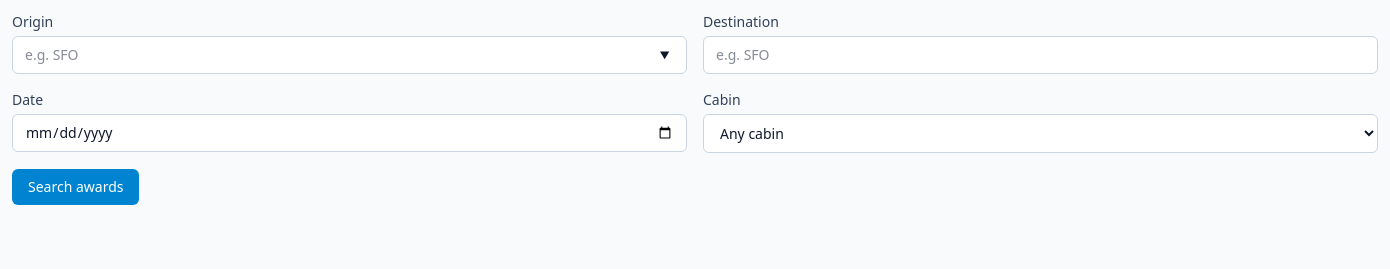
SearchForm › blocks submit and shows errors when empty
What coordinates should you click on to do the following:
click the button "Search awards"
I would click on:
 (76, 187)
Its box is [12, 169, 140, 205].
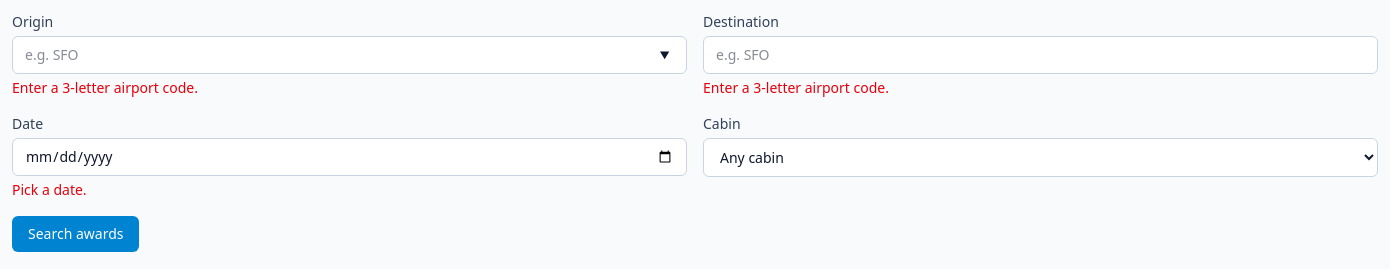
expect the text "Enter a 3-letter airport code." is shown 2 times: met, box [12, 78, 198, 97]; [703, 78, 889, 97]
expect the text "Pick a date." is shown: met, box [12, 180, 87, 199]
